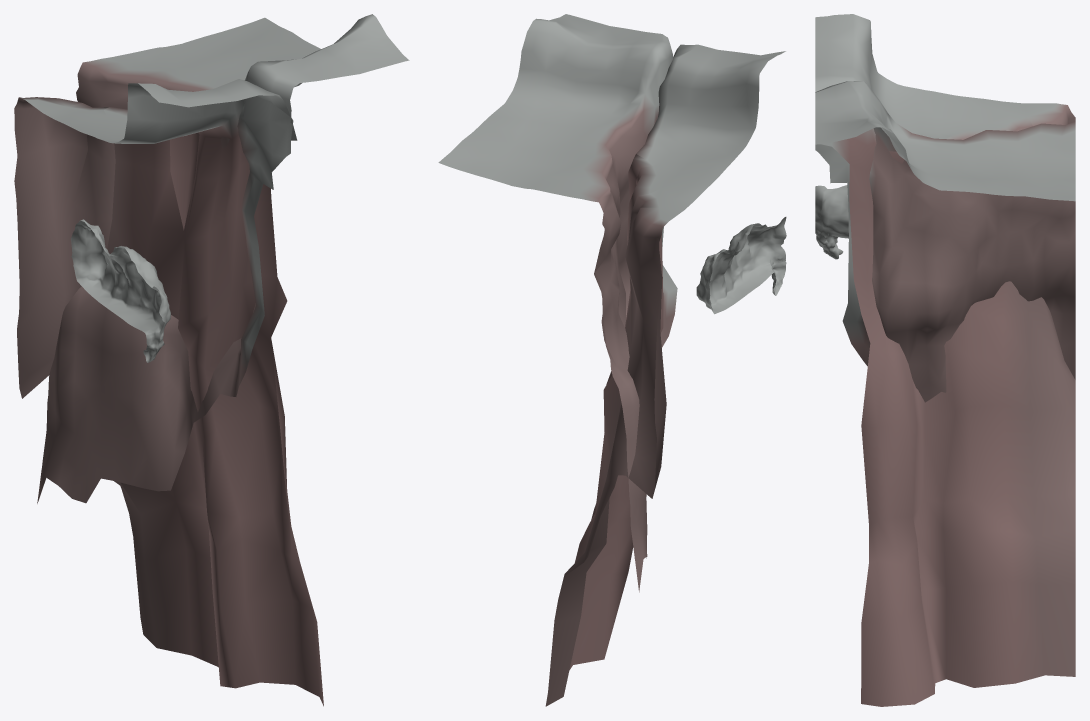
3 renders of one model, left to right at view 1: azimuth 30°, elevation 25°; view 2: azimuth 150°, elevation 25°; view 3: azimuth 270°, elevation 25°, orthographic. The views are drawn at different scales.
Parts seen in each view (by area): view 1: G:\FFXIV-MapTools\exports\u5f1\bg\ex4\04_uvs_u5\fld\u5f1\bgp (×14); view 2: G:\FFXIV-MapTools\exports\u5f1\bg\ex4\04_uvs_u5\fld\u5f1\bgp (×14); view 3: G:\FFXIV-MapTools\exports\u5f1\bg\ex4\04_uvs_u5\fld\u5f1\bgp (×14).
Boxes of the visible parts, x1,y1,x2,y2 form: G:\FFXIV-MapTools\exports\u5f1\bg\ex4\04_uvs_u5\fld\u5f1\bgp (×14): [14, 14, 409, 706]; G:\FFXIV-MapTools\exports\u5f1\bg\ex4\04_uvs_u5\fld\u5f1\bgp (×14): [438, 14, 786, 706]; G:\FFXIV-MapTools\exports\u5f1\bg\ex4\04_uvs_u5\fld\u5f1\bgp (×14): [815, 14, 1075, 706].
Size of the model in its own units: 128 by 329 by 128.
